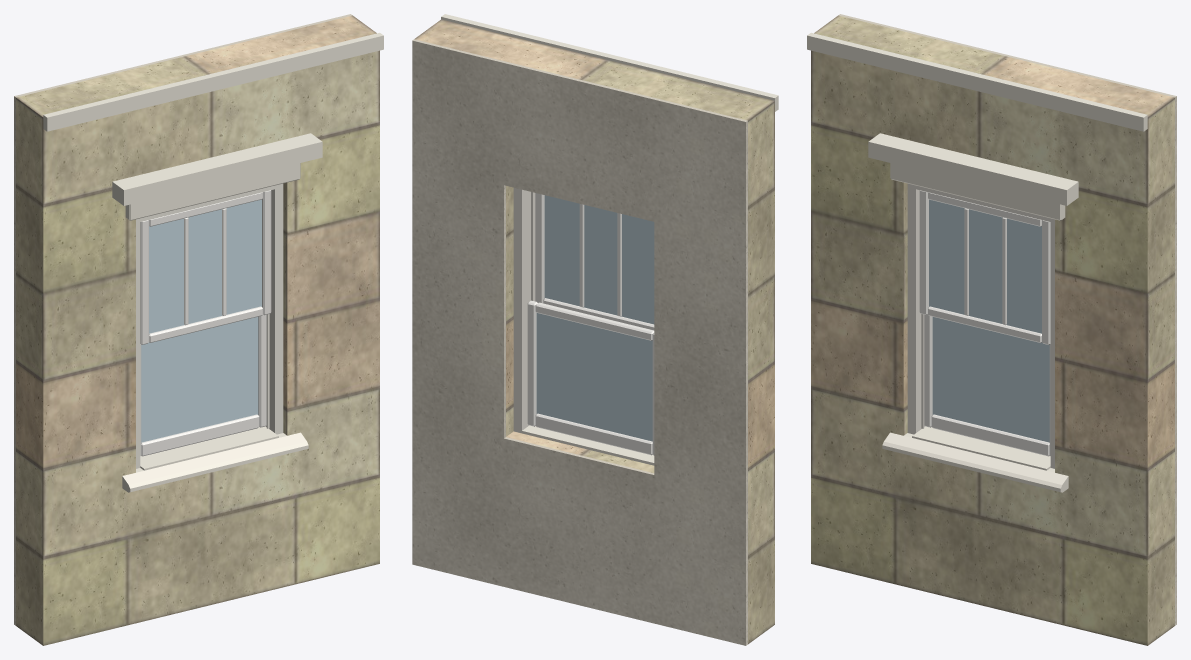
The model's file is wall_ashlar_window.glb.
The picture shows the model from 3 angles, left to right: view 1: azimuth 30°, elevation 25°; view 2: azimuth 150°, elevation 25°; view 3: azimuth 330°, elevation 25°; orthographic projection.
Parts seen in each view (by area): view 1: wall_ashlar_window_ashlar, wall_ashlar_window_glass, wall_ashlar_window_trim, wall_ashlar_window_sash, wall_ashlar_window_frame, wall_ashlar_window_plaster; view 2: wall_ashlar_window_plaster, wall_ashlar_window_ashlar, wall_ashlar_window_glass, wall_ashlar_window_sash, wall_ashlar_window_frame, wall_ashlar_window_trim; view 3: wall_ashlar_window_ashlar, wall_ashlar_window_glass, wall_ashlar_window_trim, wall_ashlar_window_sash, wall_ashlar_window_frame, wall_ashlar_window_plaster.
Boxes of the visible parts, bbox=[...] form: wall_ashlar_window_ashlar: bbox=[16, 15, 379, 645]; wall_ashlar_window_glass: bbox=[141, 199, 261, 442]; wall_ashlar_window_trim: bbox=[43, 32, 383, 492]; wall_ashlar_window_sash: bbox=[140, 190, 271, 456]; wall_ashlar_window_frame: bbox=[136, 183, 283, 468]; wall_ashlar_window_plaster: bbox=[14, 14, 352, 625]; wall_ashlar_window_plaster: bbox=[412, 39, 747, 645]; wall_ashlar_window_ashlar: bbox=[414, 19, 774, 644]; wall_ashlar_window_glass: bbox=[536, 195, 654, 441]; wall_ashlar_window_sash: bbox=[527, 193, 654, 455]; wall_ashlar_window_frame: bbox=[513, 187, 535, 433]; wall_ashlar_window_trim: bbox=[441, 14, 778, 465]; wall_ashlar_window_ashlar: bbox=[811, 15, 1174, 645]; wall_ashlar_window_glass: bbox=[929, 199, 1049, 442]; wall_ashlar_window_trim: bbox=[807, 32, 1147, 492]; wall_ashlar_window_sash: bbox=[919, 190, 1050, 456]; wall_ashlar_window_frame: bbox=[907, 183, 1054, 468]; wall_ashlar_window_plaster: bbox=[838, 14, 1176, 625].
Bounding box in the file's own units: 2 × 3.02 × 0.42.
Materials: 6 (2 with a texture image).
